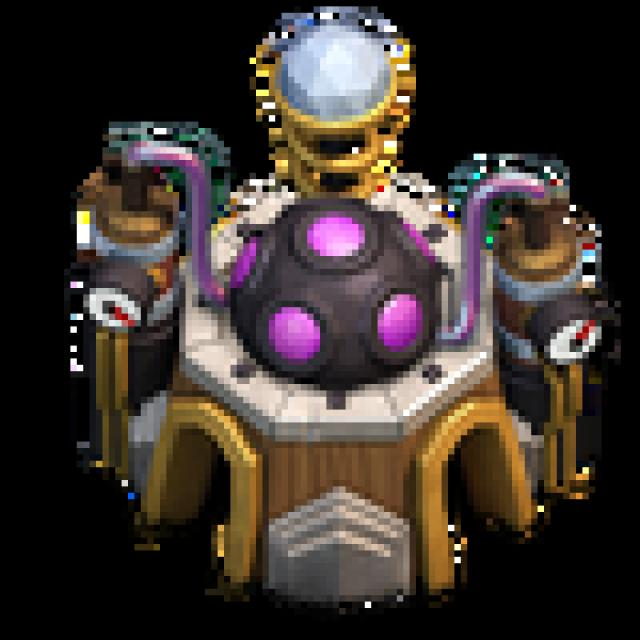laboratory: (32, 8, 629, 622)
